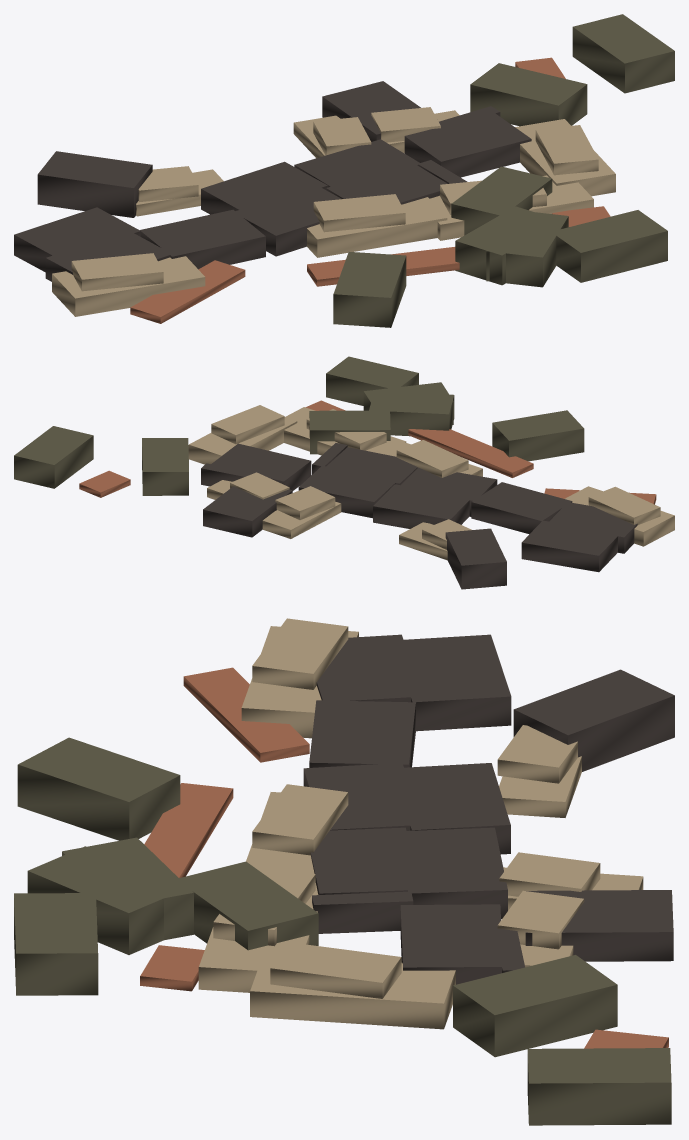
The model's file is SM_SacosRemateEspejo_v3_Tablon_e3_Brecha_LOD1.fbx.
The picture shows the model from 3 angles, top to bottom: view 1: azimuth 30°, elevation 25°; view 2: azimuth 150°, elevation 25°; view 3: azimuth 270°, elevation 25°; orthographic projection. The views are drawn at different scales.
Parts seen in each view (by area): view 1: SM_sacos_piezas_v35_LOD1; view 2: SM_sacos_piezas_v35_LOD1; view 3: SM_sacos_piezas_v35_LOD1.
Part boxes in pixels (x1=…): SM_sacos_piezas_v35_LOD1: x1=14, y1=14, x2=674, y2=327; SM_sacos_piezas_v35_LOD1: x1=14, y1=356, x2=674, y2=589; SM_sacos_piezas_v35_LOD1: x1=14, y1=618, x2=674, y2=1125.
Size of the model in its own units: 6.29 by 0.26 by 3.71.
